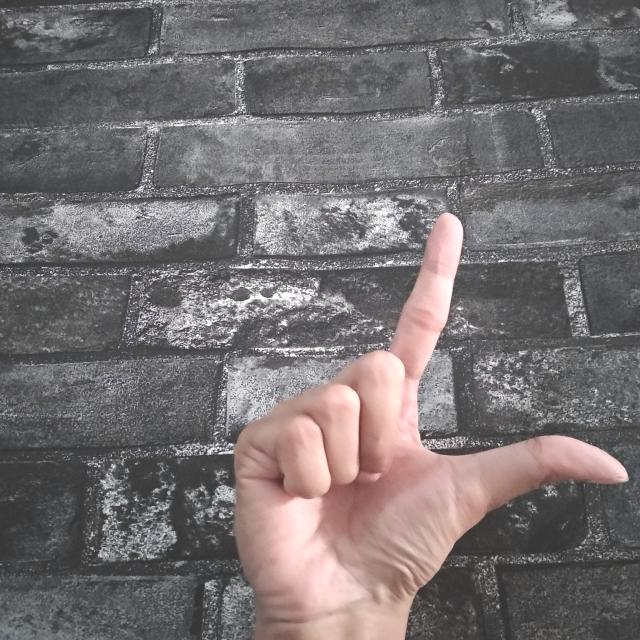L: (227, 207, 640, 640)
